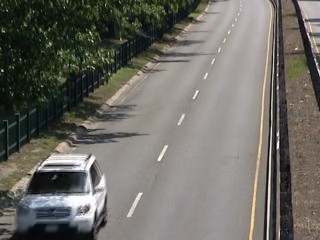car: (12, 150, 111, 240)
